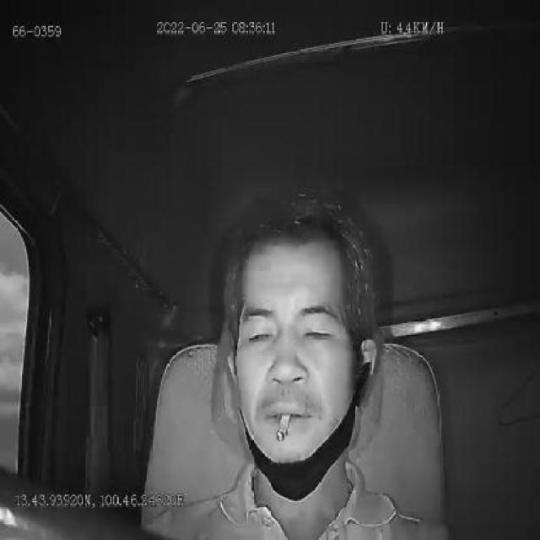smoking: (277, 414, 292, 444)
